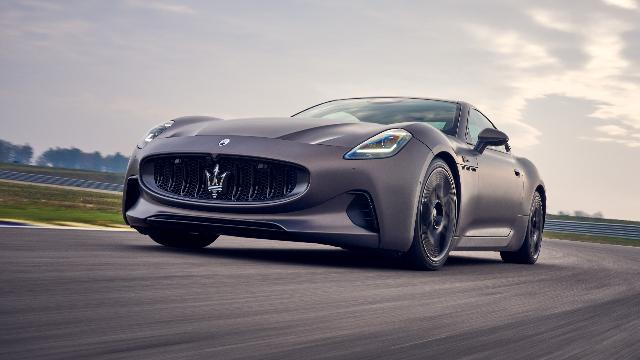maserati: (122, 96, 546, 270)
